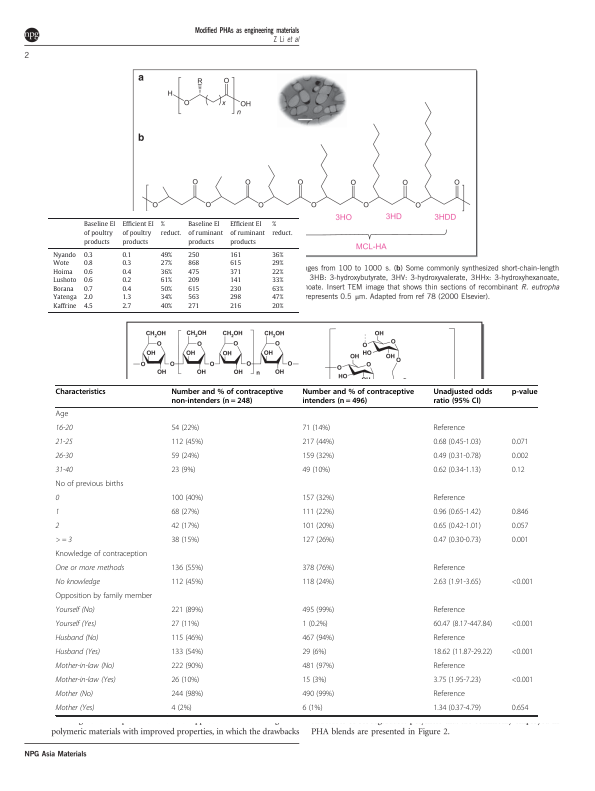borderless: (54, 384, 537, 715), (47, 216, 299, 312)
cell: (170, 388, 284, 406), (301, 388, 415, 406), (432, 388, 493, 406), (55, 592, 153, 602), (55, 550, 148, 560), (187, 221, 224, 246), (229, 221, 266, 246), (83, 221, 116, 246), (122, 221, 155, 246), (55, 480, 124, 490), (55, 564, 125, 573), (432, 620, 493, 630), (432, 648, 493, 658), (55, 676, 117, 685), (55, 662, 115, 671), (432, 438, 482, 448), (432, 452, 482, 462), (432, 466, 482, 476), (432, 508, 482, 518), (432, 522, 482, 532), (432, 536, 482, 546), (432, 578, 482, 588), (432, 676, 482, 686), (432, 704, 482, 714), (55, 388, 107, 397), (55, 578, 101, 588), (55, 648, 101, 657), (55, 634, 99, 643), (55, 620, 97, 629), (55, 606, 96, 615), (271, 221, 294, 237), (55, 704, 95, 713), (160, 221, 182, 237), (55, 690, 94, 699), (432, 424, 466, 434), (170, 438, 204, 448), (301, 438, 335, 448), (301, 452, 335, 462), (170, 494, 204, 504), (301, 494, 335, 504), (432, 494, 466, 504), (301, 508, 335, 518), (301, 522, 335, 532), (301, 536, 335, 546), (170, 564, 204, 574), (301, 564, 335, 574), (432, 564, 466, 574), (170, 578, 204, 588), (301, 578, 335, 588), (170, 606, 204, 616), (301, 606, 335, 616), (432, 606, 466, 616), (170, 634, 204, 644), (301, 634, 335, 644), (432, 634, 466, 644), (170, 648, 204, 658), (170, 662, 204, 672), (301, 662, 335, 672), (432, 662, 466, 672), (170, 690, 204, 700), (301, 690, 335, 700), (432, 690, 466, 700), (170, 424, 200, 434), (301, 424, 331, 434), (170, 452, 200, 462), (301, 466, 331, 476), (170, 508, 200, 518), (170, 522, 200, 532), (170, 536, 200, 546), (170, 620, 200, 630), (170, 676, 200, 686), (301, 620, 329, 630), (170, 466, 196, 476), (301, 648, 327, 658), (301, 676, 327, 686), (511, 388, 538, 397), (52, 302, 78, 311), (511, 578, 534, 588), (511, 620, 534, 630), (511, 648, 534, 658), (511, 676, 534, 686), (52, 276, 77, 285), (170, 704, 192, 714), (301, 704, 323, 714), (52, 294, 78, 302), (52, 251, 77, 259), (52, 285, 75, 293), (511, 438, 529, 448), (511, 452, 529, 462), (511, 508, 529, 518), (511, 522, 529, 532), (511, 536, 529, 546), (511, 704, 529, 714), (52, 268, 74, 276), (52, 259, 70, 268), (55, 424, 73, 433), (55, 438, 73, 447), (55, 452, 73, 461), (55, 466, 73, 475), (55, 536, 73, 545), (511, 466, 526, 476), (55, 410, 69, 420), (160, 259, 173, 268), (187, 259, 200, 268), (229, 259, 242, 268), (271, 259, 284, 268), (160, 276, 173, 285), (187, 276, 200, 285), (229, 276, 242, 285), (271, 276, 284, 285), (160, 302, 173, 311), (187, 302, 200, 311), (229, 302, 242, 311), (271, 302, 284, 311), (160, 251, 173, 259), (187, 251, 200, 259), (229, 251, 242, 259), (271, 251, 284, 259), (160, 268, 173, 276), (187, 268, 200, 276), (229, 268, 242, 276), (271, 268, 284, 276), (160, 285, 173, 293), (187, 285, 200, 293), (229, 285, 242, 293), (271, 285, 284, 293), (160, 294, 173, 302), (187, 294, 200, 302), (229, 294, 242, 302), (271, 294, 284, 302), (83, 259, 94, 268), (83, 276, 94, 285), (83, 302, 94, 311), (122, 259, 132, 268), (122, 276, 132, 285), (122, 302, 132, 311), (83, 251, 94, 259), (83, 268, 94, 276), (83, 285, 94, 293), (83, 294, 94, 302), (122, 251, 132, 259), (122, 268, 132, 276), (122, 285, 132, 293), (122, 294, 132, 302), (55, 494, 60, 503), (55, 508, 60, 517), (55, 522, 60, 531)
